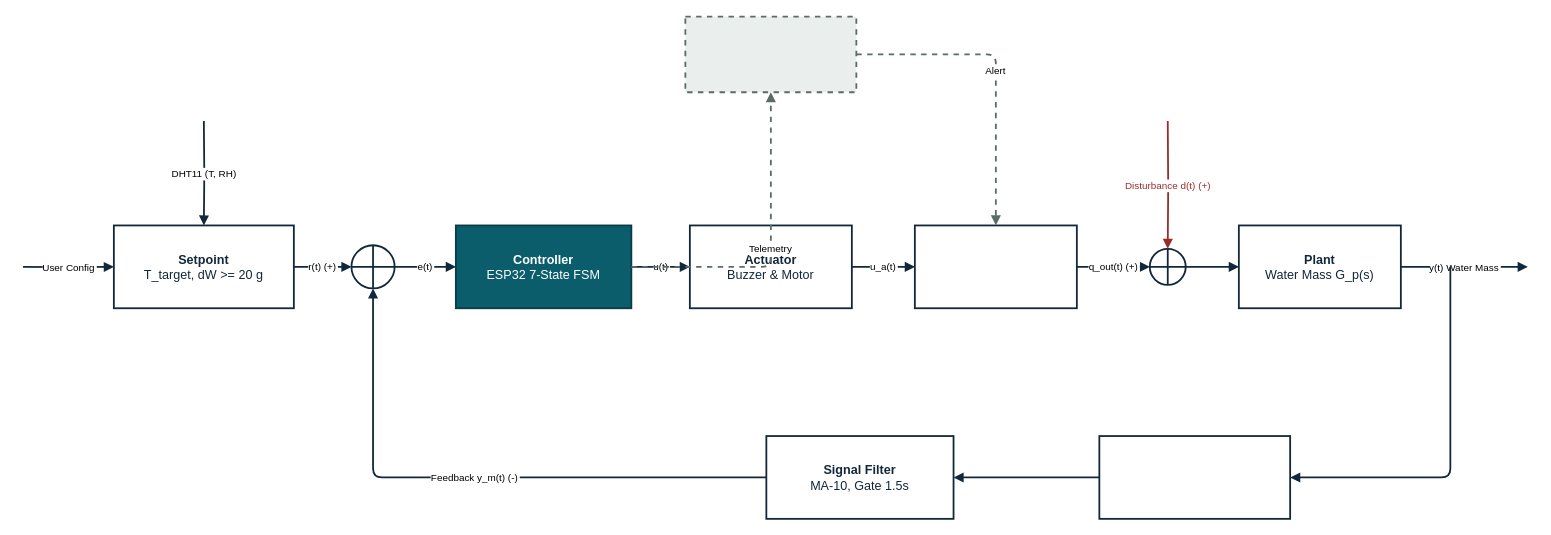
The diagram is 1551 pixels wide and 535 high, and some of its shapes have lost their labels. Here are the shapes that lost their labels. From the top down, the centre of each, then its label:
the point at 770,54: Web / Android Firebase RTDB
the point at 995,266: Human (HITL) G_h(s)
the point at 1194,477: Sensor Load Cell + HX711
